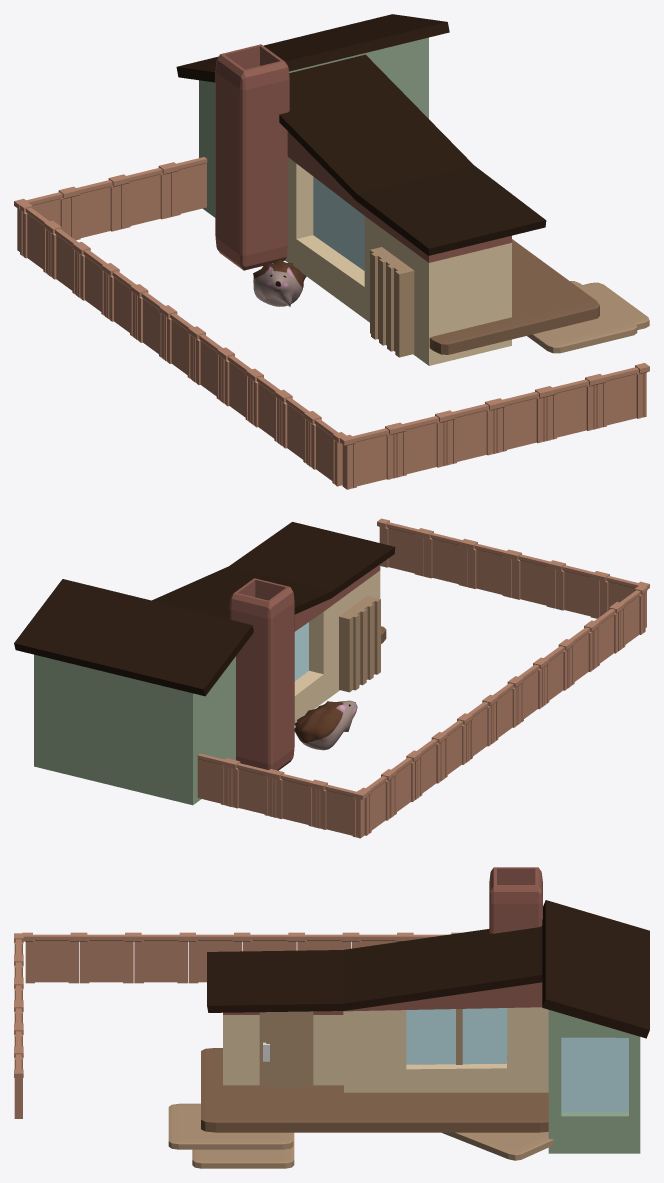
The model's file is CasaP1.fbx.
The picture shows the model from 3 angles, top to bottom: view 1: azimuth 30°, elevation 25°; view 2: azimuth 150°, elevation 25°; view 3: azimuth 270°, elevation 25°; orthographic projection. The views are drawn at different scales.
Visible parts, largest first — view 1: Cube.006, Cube.014, Cube.005, Cube.013, Cube.012, Cube.015, Cube, Cube.011, Cube.004, Cube.016, Cube.017, Cube.001 (+2 smaller); view 2: Cube.004, Cube.011, Cube.014, Cube.013, Cube.012, Cube.006, Cube.015, Cube.005, Cube.016, Sphere, Cube.017; view 3: Cube.006, Cube.005, Cube, Cube.014, Cube.011, Cube.004, Cube.010, Cube.018, Cube.007, Cube.012, Cube.001, Cube.002 (+2 smaller).
Boxes of the visible parts, <box> form: Cube.006: <box>279,54,546,255</box>; Cube.014: <box>19,202,346,486</box>; Cube.005: <box>285,131,511,365</box>; Cube.013: <box>339,363,649,489</box>; Cube.012: <box>215,44,289,270</box>; Cube.015: <box>14,157,207,251</box>; Cube: <box>429,239,599,354</box>; Cube.011: <box>176,14,449,82</box>; Cube.004: <box>199,37,428,217</box>; Cube.016: <box>370,247,414,357</box>; Cube.017: <box>313,176,364,270</box>; Cube.001: <box>527,281,637,353</box>; Cube.004: <box>34,654,235,805</box>; Cube.011: <box>14,579,253,696</box>; Cube.014: <box>359,585,647,835</box>; Cube.013: <box>377,518,649,627</box>; Cube.012: <box>229,578,294,770</box>; Cube.006: <box>152,522,395,619</box>; Cube.015: <box>197,753,367,838</box>; Cube.005: <box>294,564,380,722</box>; Cube.016: <box>339,596,380,692</box>; Sphere: <box>294,700,357,750</box>; Cube.017: <box>294,622,308,681</box>; Cube.006: <box>207,926,542,1012</box>; Cube.005: <box>223,982,548,1092</box>; Cube: <box>201,1048,548,1132</box>; Cube.014: <box>22,932,460,983</box>; Cube.011: <box>542,900,649,1038</box>; Cube.004: <box>548,1010,640,1153</box>; Cube.010: <box>406,1008,507,1064</box>; Cube.018: <box>561,1037,628,1112</box>; Cube.007: <box>259,1011,313,1087</box>; Cube.012: <box>489,867,542,933</box>; Cube.001: <box>168,1103,293,1149</box>; Cube.002: <box>192,1132,294,1168</box>.
Bounding box in the file's own units: 1640 × 799 × 2366.
